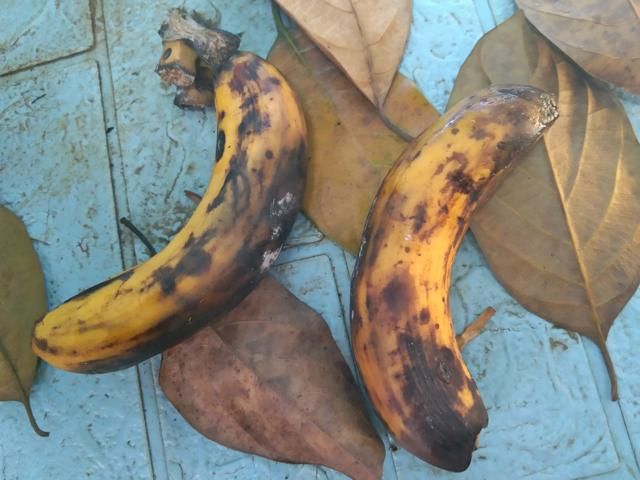rotten: (13, 55, 307, 380), (332, 86, 584, 451)
